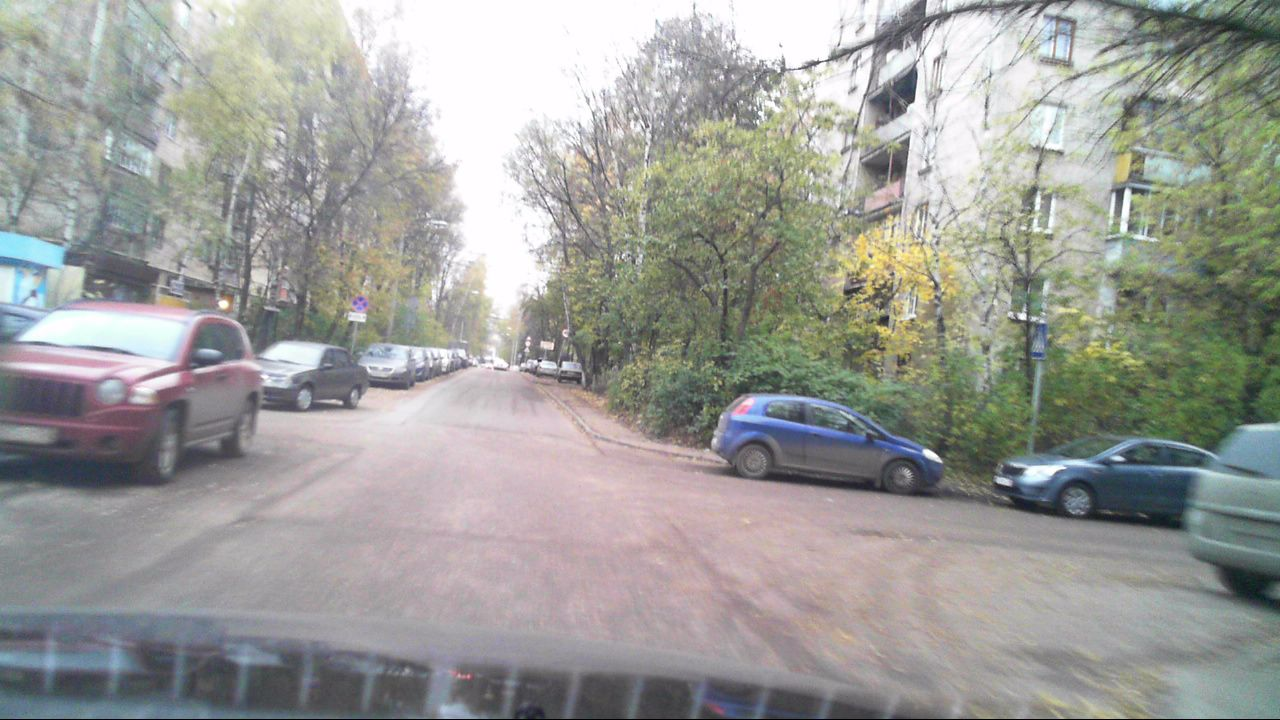No Parking: (351, 296, 368, 312)
